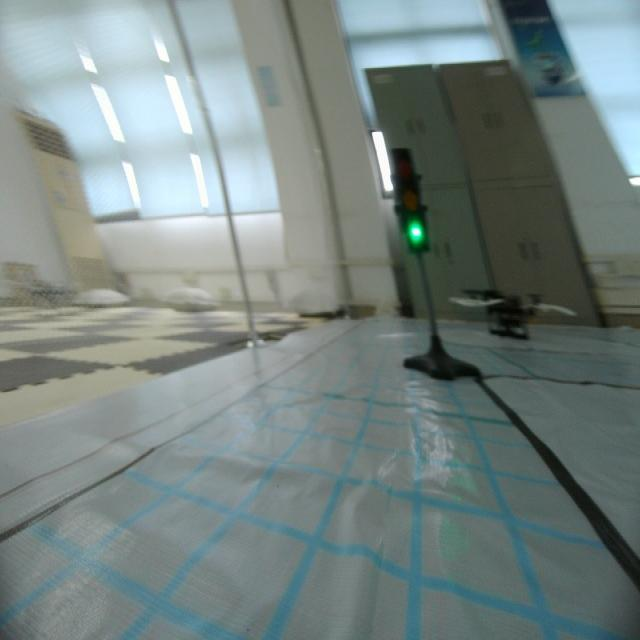green: (385, 139, 431, 258)
